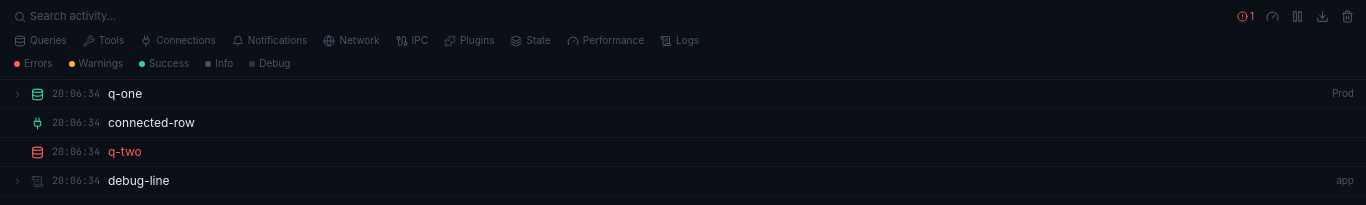
Test case: ActivityList › toggles the pause control
The image size is (1366, 205).
Step 1. Click the button titled "Pause live updates" → (1298, 16), box [1287,6,1308,27]
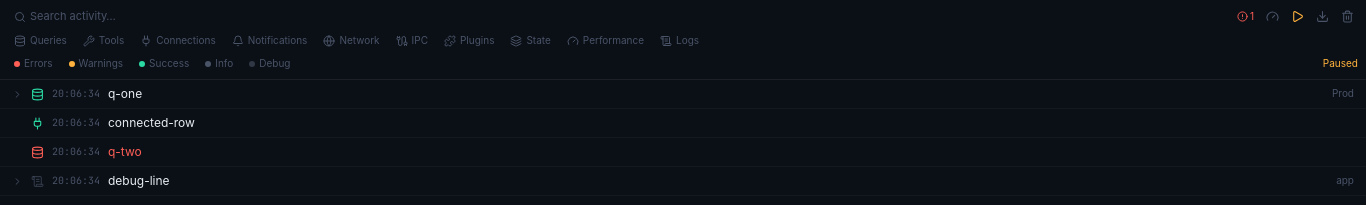
Check: the button titled "Resume live updates" is shown, box [1287,6,1308,27]
